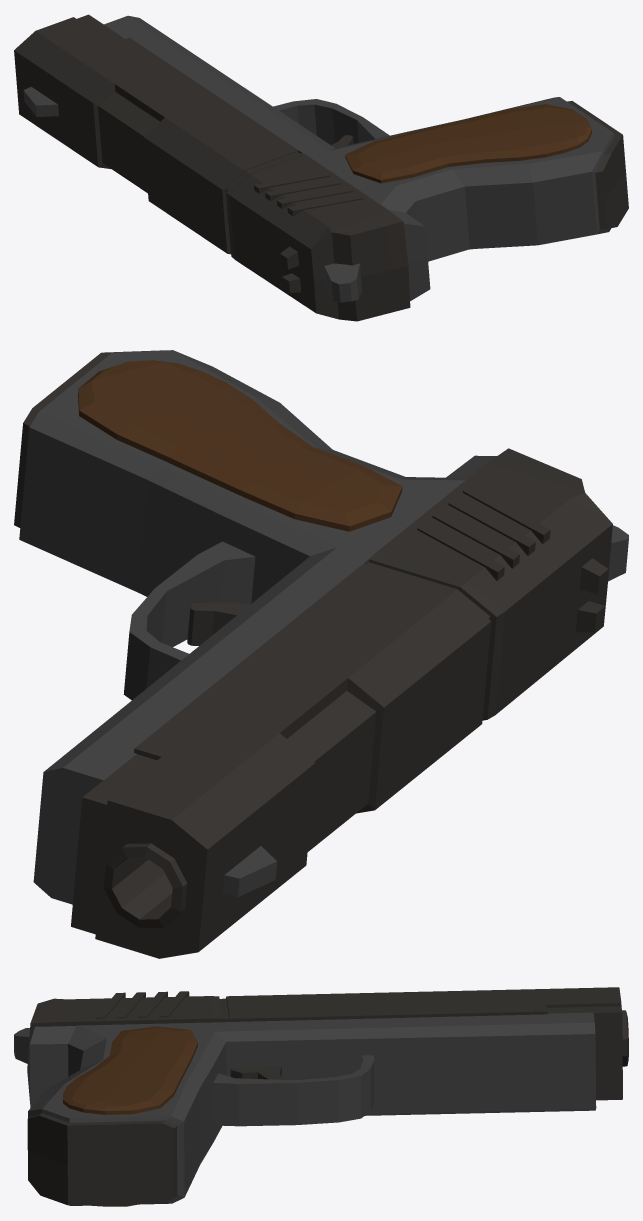
File: gun.glb
3 views of the same model, one above another, from view 1: azimuth 30°, elevation 25°; view 2: azimuth 150°, elevation 25°; view 3: azimuth 270°, elevation 25° (orthographic). The views are drawn at different scales.
Visible parts, largest first — view 1: Pistol; view 2: Pistol; view 3: Pistol.
Part boxes in pixels (x1,y1,x2,y2): Pistol: [14, 14, 628, 321]; Pistol: [14, 350, 628, 958]; Pistol: [14, 987, 628, 1206].
Size of the model in its own units: 0.2304 by 0.0742 by 0.34.
